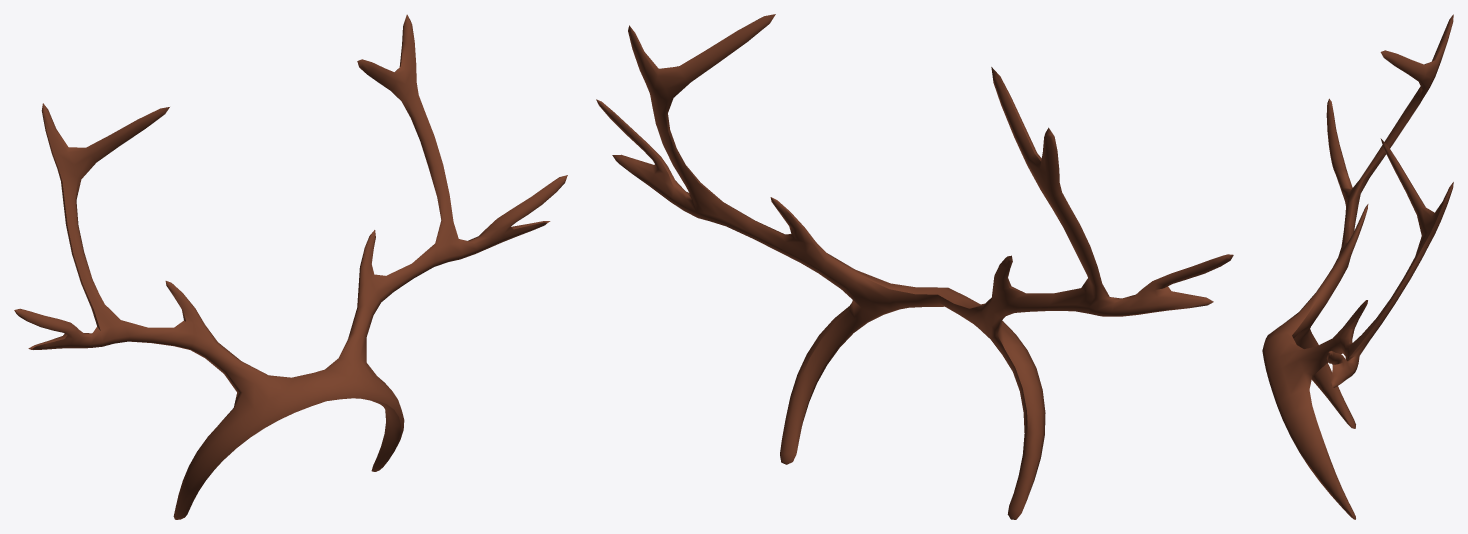
The picture shows the model from 3 angles, left to right: view 1: azimuth 30°, elevation 25°; view 2: azimuth 150°, elevation 25°; view 3: azimuth 270°, elevation 25°; orthographic projection. The views are drawn at different scales.
Parts seen in each view (by area): view 1: reindeer_horns; view 2: reindeer_horns; view 3: reindeer_horns.
Part boxes in pixels (x1=…): reindeer_horns: x1=14, y1=14, x2=567, y2=519; reindeer_horns: x1=596, y1=14, x2=1233, y2=519; reindeer_horns: x1=1262, y1=14, x2=1453, y2=519.
Bounding box in the file's own units: 5.15 × 3.57 × 1.63.
